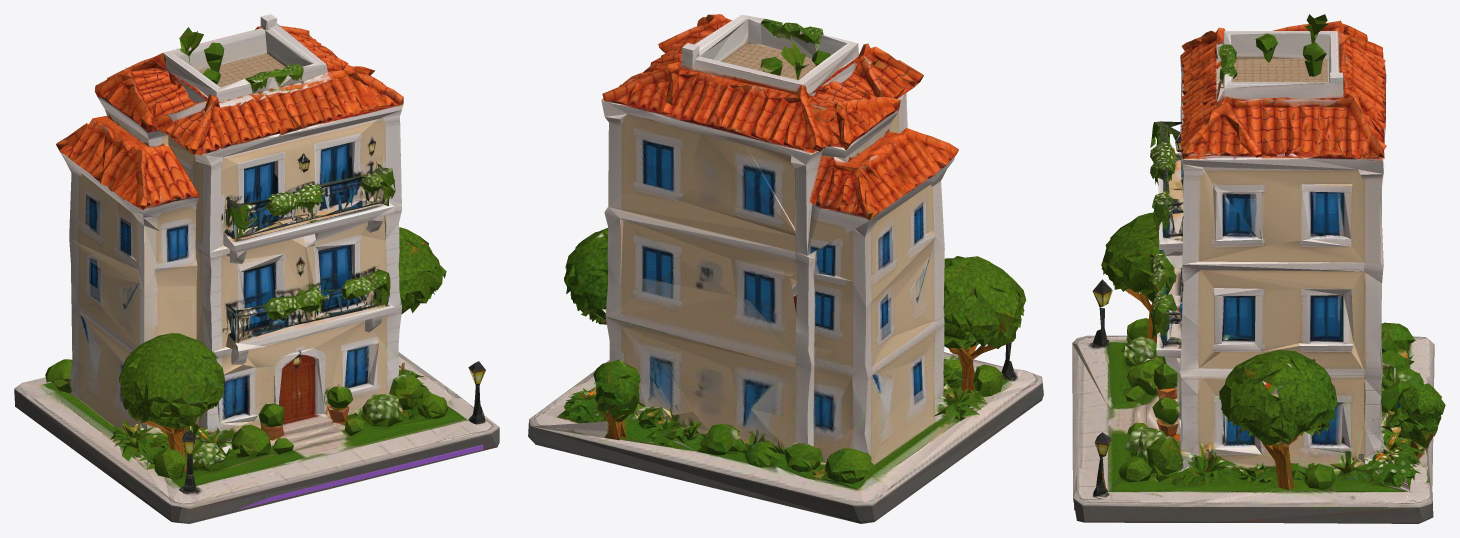
The model's file is property-level-3-meshy-v1.glb.
3 renders of one model, left to right at view 1: azimuth 30°, elevation 25°; view 2: azimuth 150°, elevation 25°; view 3: azimuth 270°, elevation 25°, orthographic. The views are drawn at different scales.
Visible parts, largest first — view 1: PROPERTY_LEVEL_3; view 2: PROPERTY_LEVEL_3; view 3: PROPERTY_LEVEL_3.
Part boxes in pixels (left/top/right/bottom): PROPERTY_LEVEL_3: left=14, top=14, right=499, bottom=523; PROPERTY_LEVEL_3: left=528, top=14, right=1043, bottom=523; PROPERTY_LEVEL_3: left=1072, top=14, right=1445, bottom=523.
Size of the model in its own units: 1 by 1 by 0.8282.
Materials: 2 (1 with a texture image).
